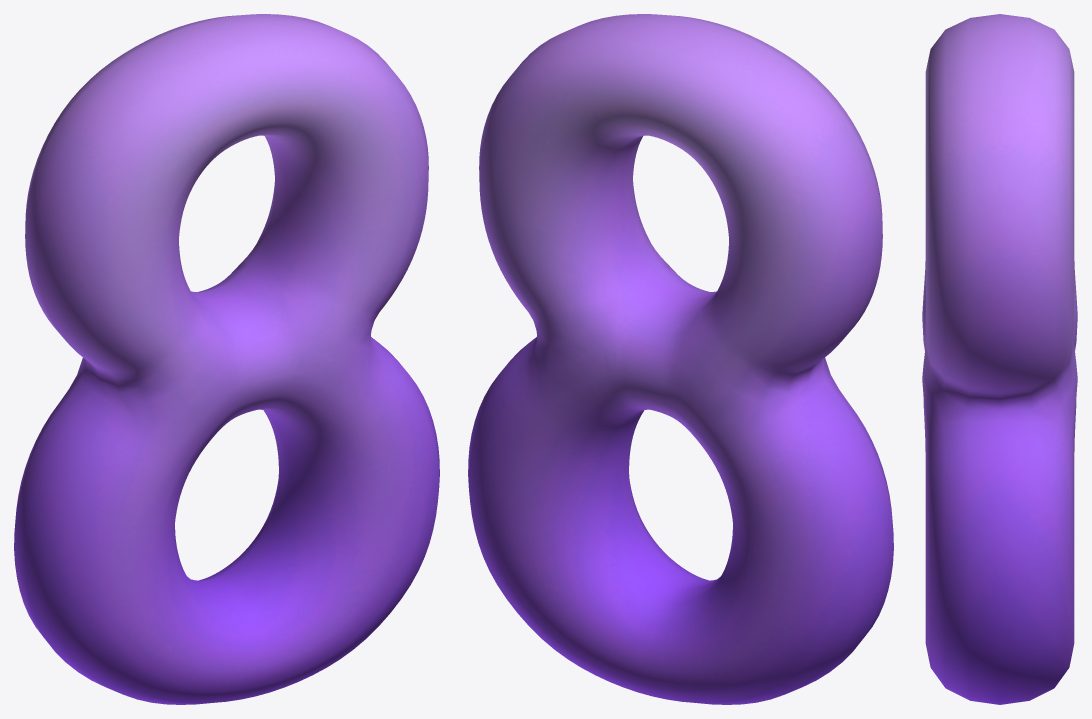
The picture shows the model from 3 angles, left to right: view 1: azimuth 30°, elevation 25°; view 2: azimuth 150°, elevation 25°; view 3: azimuth 270°, elevation 25°; orthographic projection. The views are drawn at different scales.
Visible parts, largest first — view 1: node_id319; view 2: node_id319; view 3: node_id319.
Boxes of the visible parts, box(x1,y1,x2,y2) form: node_id319: box(14, 14, 439, 704); node_id319: box(468, 14, 893, 704); node_id319: box(922, 14, 1077, 704).
Size of the model in its own units: 0.3278 by 0.512 by 0.1132.
Materials: 1 (1 with a texture image).
